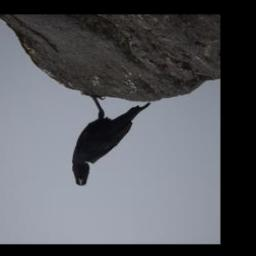Crow: (70, 93, 150, 188)
